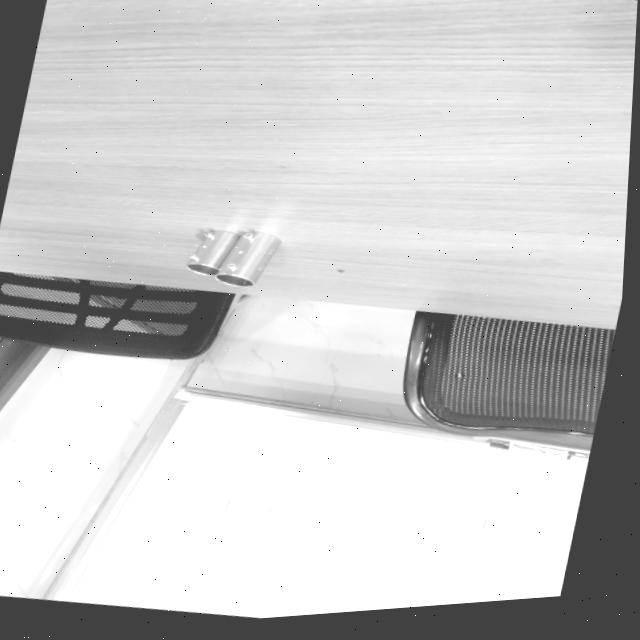Co_Lon: (213, 220, 282, 297)
Co_Nho: (184, 218, 240, 282)
